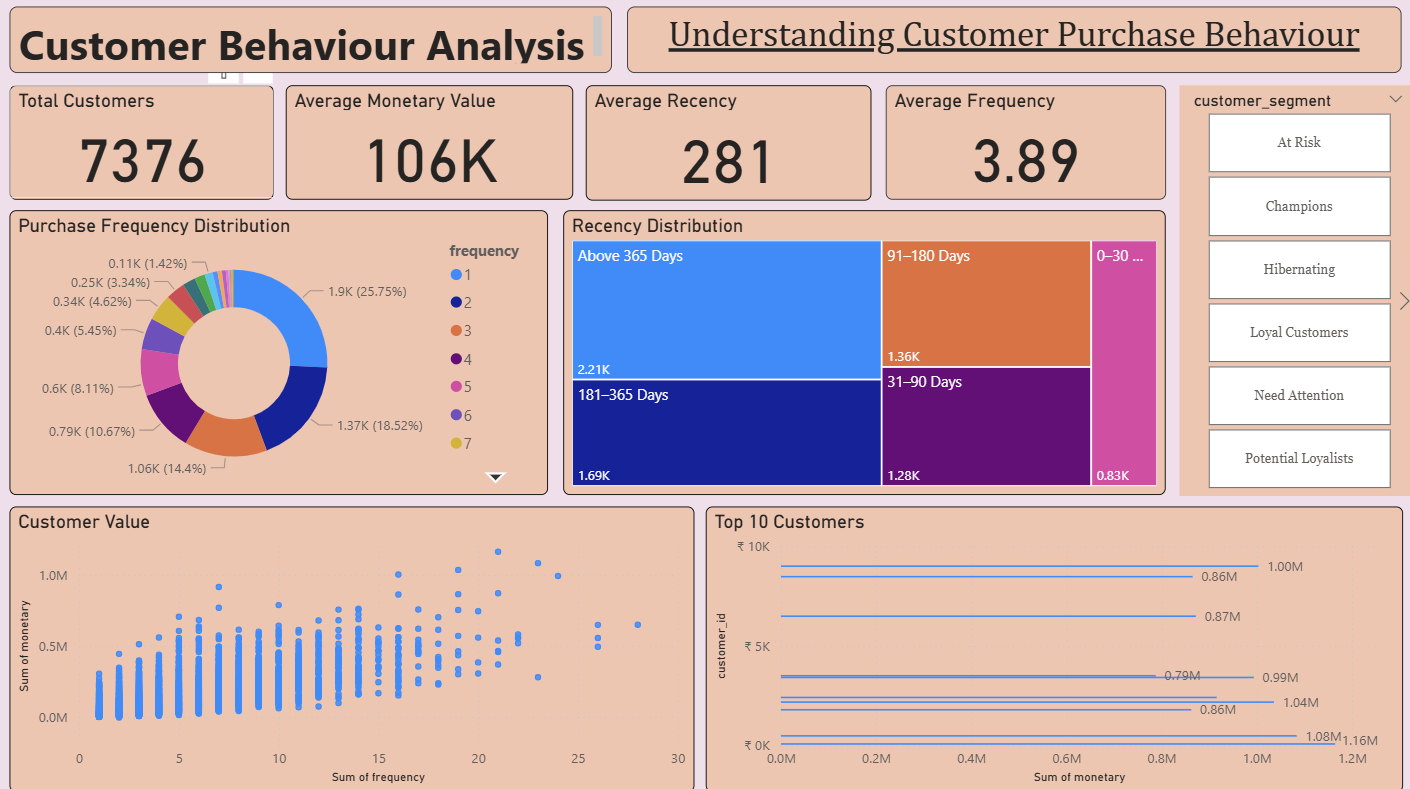

What the dashboard file says about the page in this screenshot:
{"tool":"powerbi","page":{"name":"Customer Behaviour Analysis","canvas":[1280,720],"ordinal":1},"visuals":[{"type":"card","title":"Total Customers","fields":{"Values":["CountNonNull(customer_segments.customer_id)"]},"box":[11,82.3,238.8,102.9],"z":0},{"type":"card","title":"Average Recency","fields":{"Values":["Avg(customer_segments.recency)"]},"box":[531,82.3,258,104.3],"z":1000},{"type":"card","title":"Average Frequency","fields":{"Values":["Avg(customer_segments.frequency)"]},"box":[801.4,82.3,252.5,102.9],"z":2000},{"type":"card","title":"Average Monetary Value","fields":{"Values":["Avg(customer_segments.monetary)"]},"box":[260.7,82.3,259.3,102.9],"z":3000},{"type":"donutChart","title":"Purchase Frequency Distribution","fields":{"Category":["customer_segments.frequency"],"Y":["CountNonNull(customer_segments.customer_id)"]},"box":[11,194.9,485.8,256.6],"z":4000},{"type":"treemap","title":"Recency Distribution ","fields":{"Group":["customer_segments.Recency Group"],"Values":["CountNonNull(customer_segments.customer_id)"]},"box":[510.5,194.9,543.4,256.6],"z":5000},{"type":"barChart","title":"Top 10 Customers","fields":{"Category":["customer_segments.customer_id"],"Y":["Sum(customer_segments.monetary)"]},"box":[639.5,462.4,628.5,258],"z":6000},{"type":"scatterChart","title":"Customer Value","fields":{"X":["Sum(customer_segments.frequency)"],"Y":["Sum(customer_segments.monetary)"],"Category":["customer_segments.customer_id"]},"box":[11,462.4,617.5,258],"z":7000},{"type":"textbox","box":[11,11,543.4,60.4],"z":8000},{"type":"textbox","box":[568.1,11,698.5,60.4],"z":9000},{"type":"slicer","fields":{"Values":["customer_segments.customer_segment"]},"box":[1066.2,82.3,214.1,370.5],"z":10000}]}

Visuals, with their boxes in screenshot pixels (x1, y1, x2, y2), scaled from the page's 1280x720 canvas onto the 1410x789 screenshot:
"Total Customers" card: [12,90,275,203]
"Average Recency" card: [585,90,869,204]
"Average Frequency" card: [883,90,1161,203]
"Average Monetary Value" card: [287,90,573,203]
"Purchase Frequency Distribution" donutChart: [12,214,547,495]
"Recency Distribution " treemap: [562,214,1161,495]
"Top 10 Customers" barChart: [704,507,1397,788]
"Customer Value" scatterChart: [12,507,692,788]
textbox: [12,12,611,78]
textbox: [626,12,1395,78]
slicer - customer_segments.customer_segment: [1174,90,1409,496]
